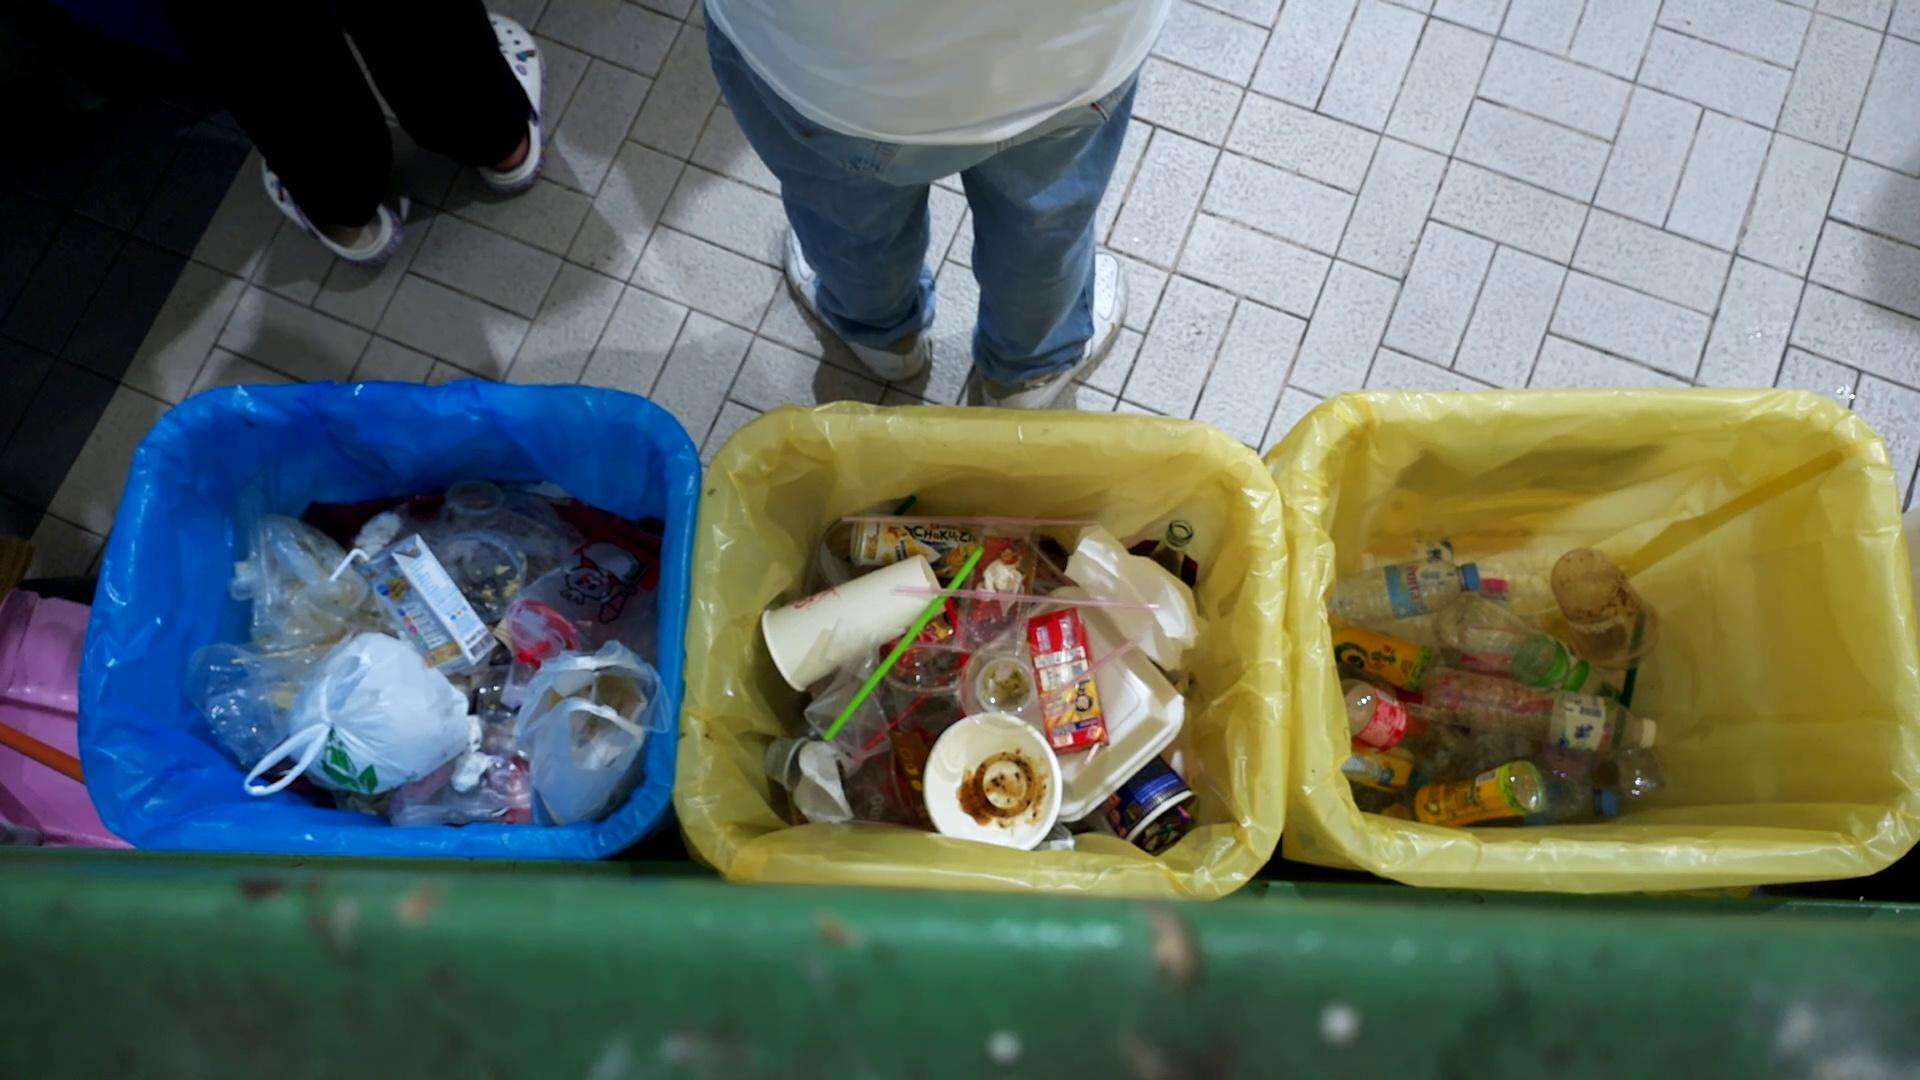can: (844, 508, 990, 579)
filled plastic bag: (235, 630, 464, 800), (495, 530, 667, 712), (505, 633, 666, 824)
food container: (918, 709, 1063, 853), (435, 526, 529, 626), (976, 655, 1040, 720), (761, 731, 814, 796)
milk carton: (357, 524, 483, 676), (1023, 604, 1113, 754)
plastic bag: (1068, 524, 1212, 675), (223, 505, 372, 644), (803, 618, 897, 783), (237, 484, 281, 630)
plastic bottle: (1418, 659, 1662, 758), (1439, 584, 1623, 700), (1331, 547, 1486, 641), (1379, 756, 1548, 828)
plastic cup: (1552, 542, 1669, 671)
straw: (824, 545, 988, 746), (1022, 641, 1146, 723), (895, 584, 1160, 612), (993, 600, 1125, 655), (823, 516, 1096, 531), (323, 549, 373, 583), (1084, 738, 1101, 766)
tissue paper: (795, 736, 856, 825), (442, 752, 492, 802)
zero waste cup: (760, 551, 948, 694)
